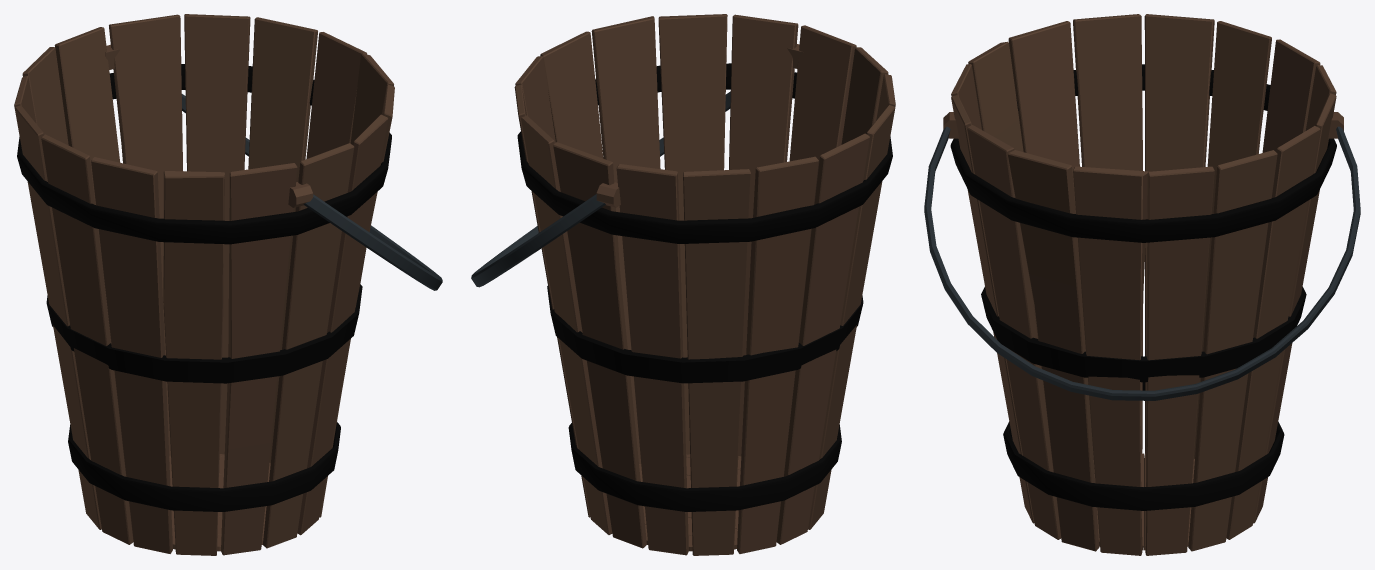
Rendered from Bucket.fbx.
3 views of the same model, side by side, from view 1: azimuth 30°, elevation 25°; view 2: azimuth 150°, elevation 25°; view 3: azimuth 270°, elevation 25° (orthographic).
Parts seen in each view (by area): view 1: Bucket; view 2: Bucket; view 3: Bucket.
Part boxes in pixels (left/top/right/bottom): Bucket: left=14, top=14, right=442, bottom=555; Bucket: left=471, top=14, right=895, bottom=555; Bucket: left=924, top=14, right=1360, bottom=555.
Size of the model in its own units: 0.5513 by 0.595 by 0.5706.
